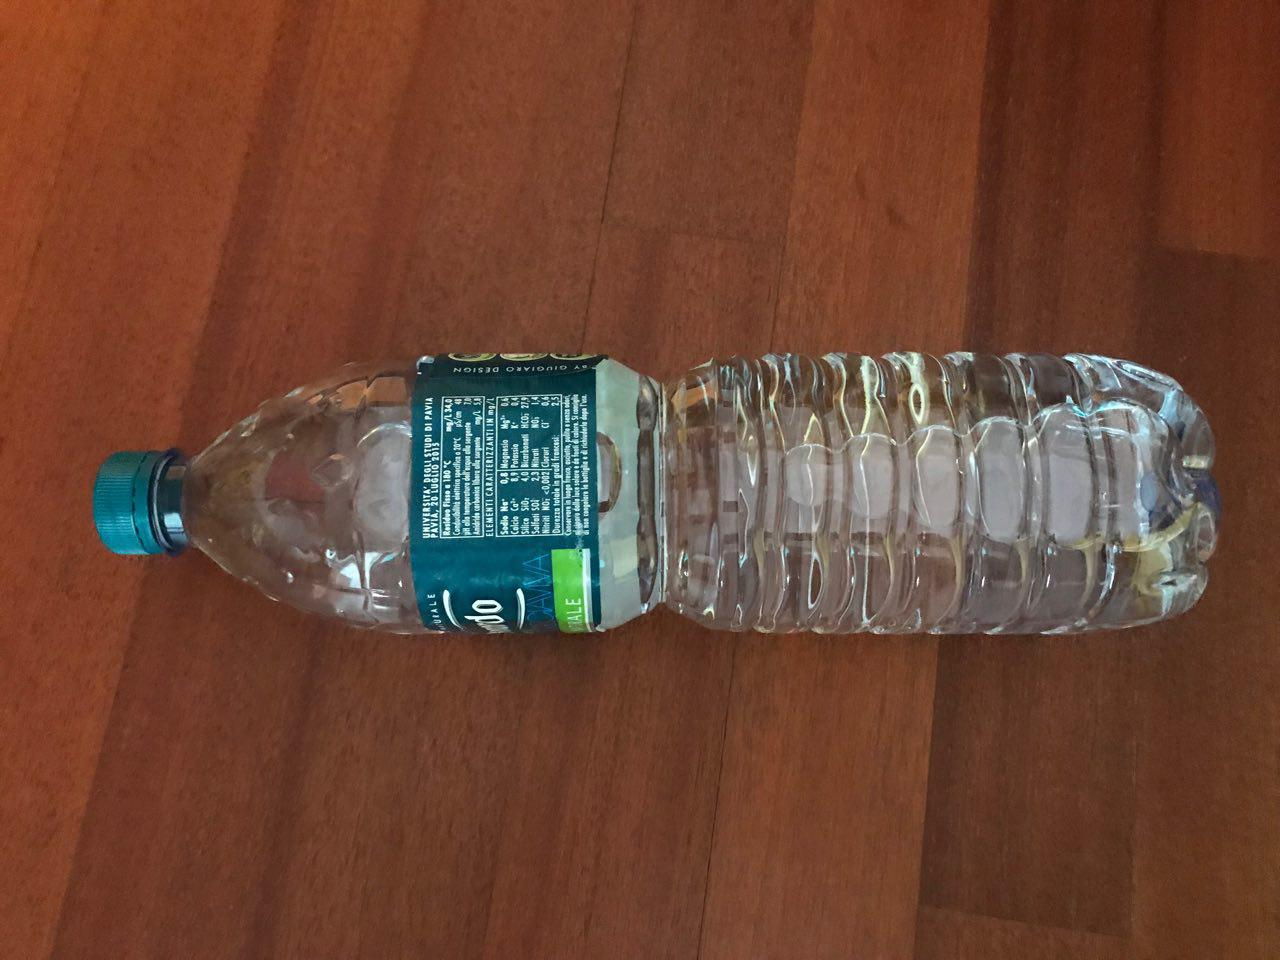san_bernardo: (89, 350, 1220, 638)
